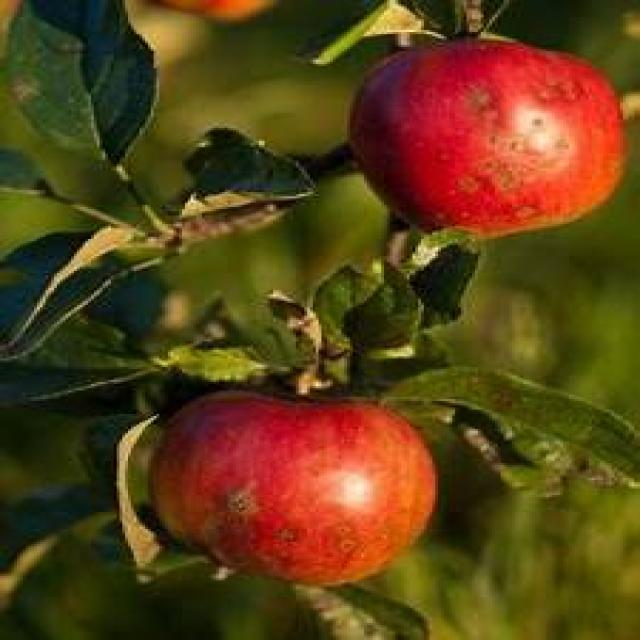apple: (142, 393, 439, 588), (351, 39, 633, 237)
